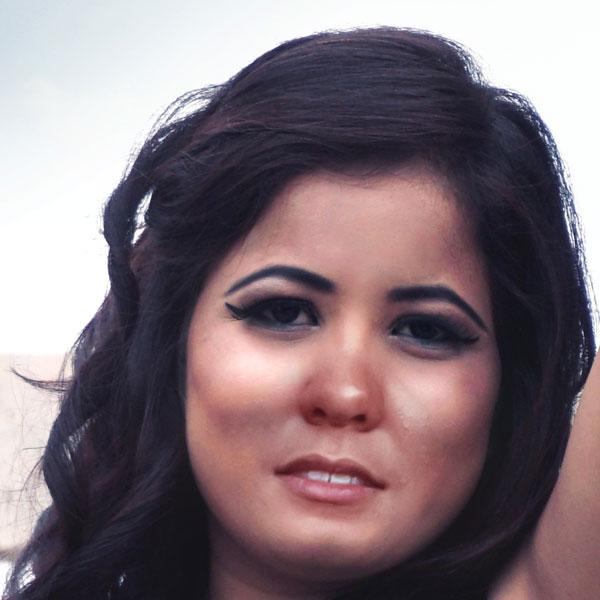Eyes: (234, 283, 328, 341), (382, 305, 476, 361)
